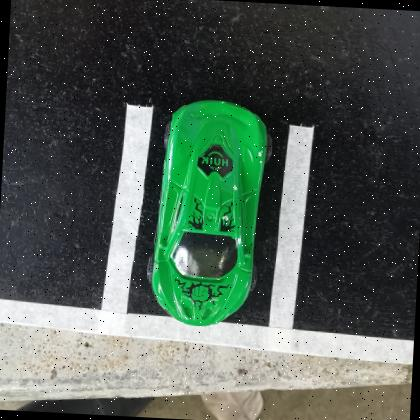Car: (148, 98, 268, 326)
